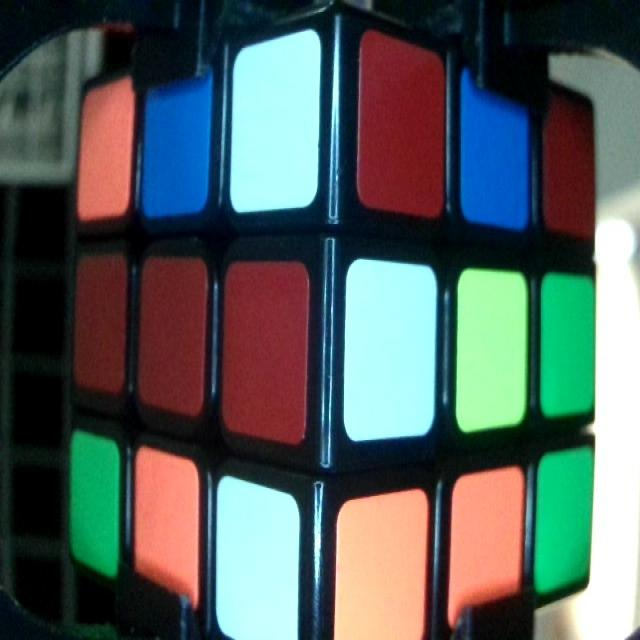b: (463, 80, 528, 218), (145, 82, 207, 205)
g: (544, 283, 594, 402), (541, 463, 587, 579), (72, 443, 117, 559)
o: (340, 518, 425, 633), (136, 468, 199, 594), (457, 492, 521, 597), (83, 98, 127, 208)
r: (362, 61, 443, 204), (228, 284, 302, 417), (142, 271, 202, 398), (544, 106, 594, 227), (76, 264, 122, 382)
w: (347, 272, 432, 420), (238, 56, 316, 198), (218, 502, 296, 628)
y: (462, 276, 523, 414)
